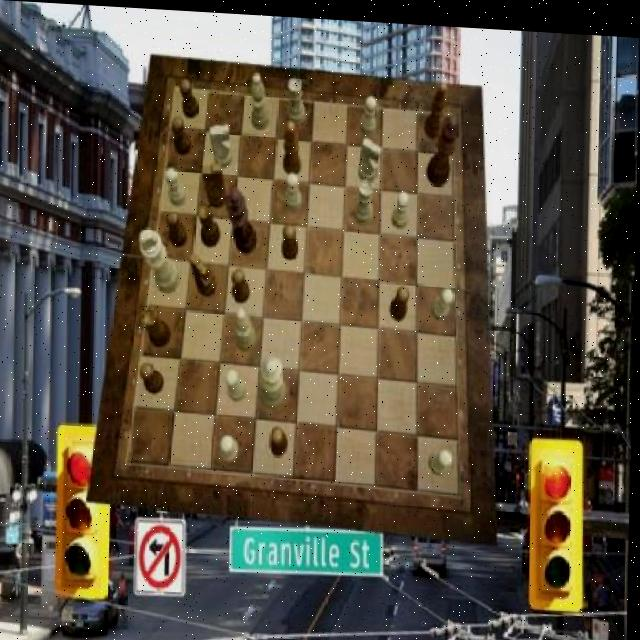bishop: (424, 75, 448, 135), (284, 118, 304, 173)
black-bishop: (227, 183, 260, 252)
black-king: (190, 251, 219, 296), (203, 160, 228, 207)
black-knight: (171, 114, 192, 154), (143, 360, 168, 393), (166, 209, 188, 246), (180, 76, 200, 116), (390, 280, 410, 317), (232, 265, 252, 300), (283, 221, 301, 256), (271, 424, 289, 452)
black-pawn: (427, 108, 461, 183)
black-queen: (142, 307, 172, 347), (197, 199, 222, 245)
black-rook: (251, 70, 270, 127), (236, 305, 257, 350)
white-bishop: (138, 227, 181, 293)
white-king: (360, 132, 384, 179), (209, 120, 234, 165)
white-knight: (166, 165, 189, 204), (432, 282, 455, 317), (361, 91, 379, 132), (227, 368, 248, 401), (393, 185, 411, 223), (286, 169, 303, 207), (431, 444, 455, 470), (222, 434, 241, 462)
white-pawn: (261, 351, 289, 406)
white-queen: (355, 175, 376, 221), (288, 73, 307, 123)
